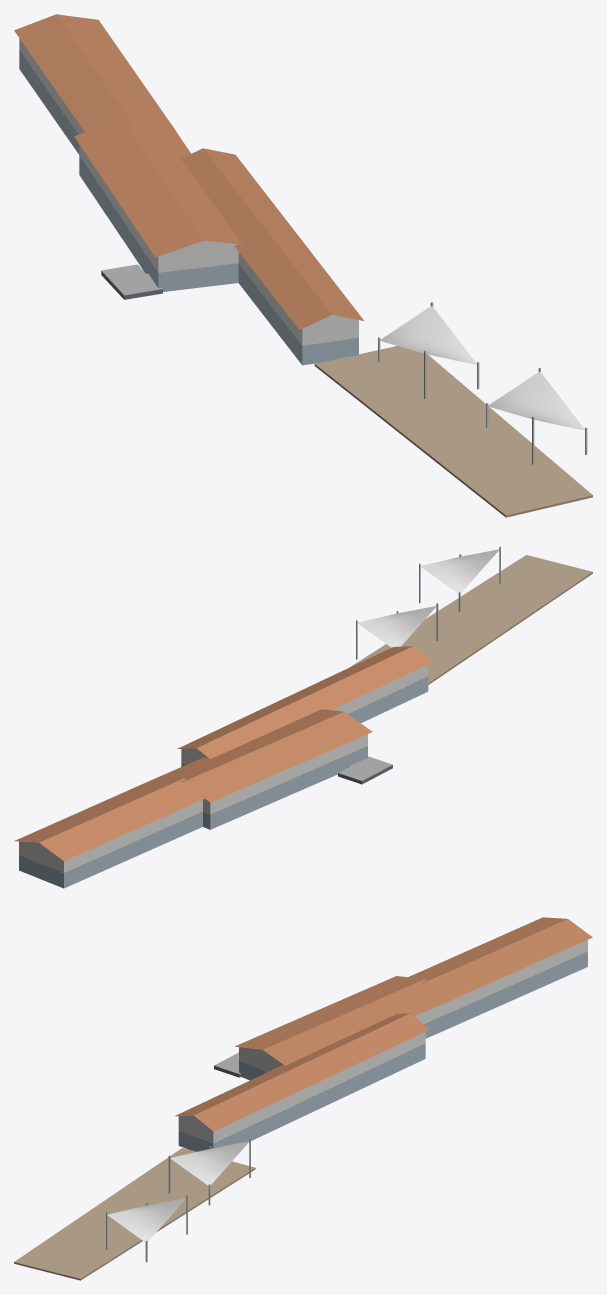
Rendered from thamaharaj.glb.
3 renders of one model, top to bottom at view 1: azimuth 30°, elevation 25°; view 2: azimuth 150°, elevation 25°; view 3: azimuth 330°, elevation 25°, orthographic. The views are drawn at different scales.
Parts seen in each view (by area): view 1: thamaharaj; view 2: thamaharaj; view 3: thamaharaj.
Part boxes in pixels (x1=…): thamaharaj: x1=14, y1=14, x2=592, y2=517; thamaharaj: x1=14, y1=546, x2=592, y2=888; thamaharaj: x1=14, y1=917, x2=592, y2=1280.
Bounding box in the file's own units: 48.61 × 10.1 × 215.
